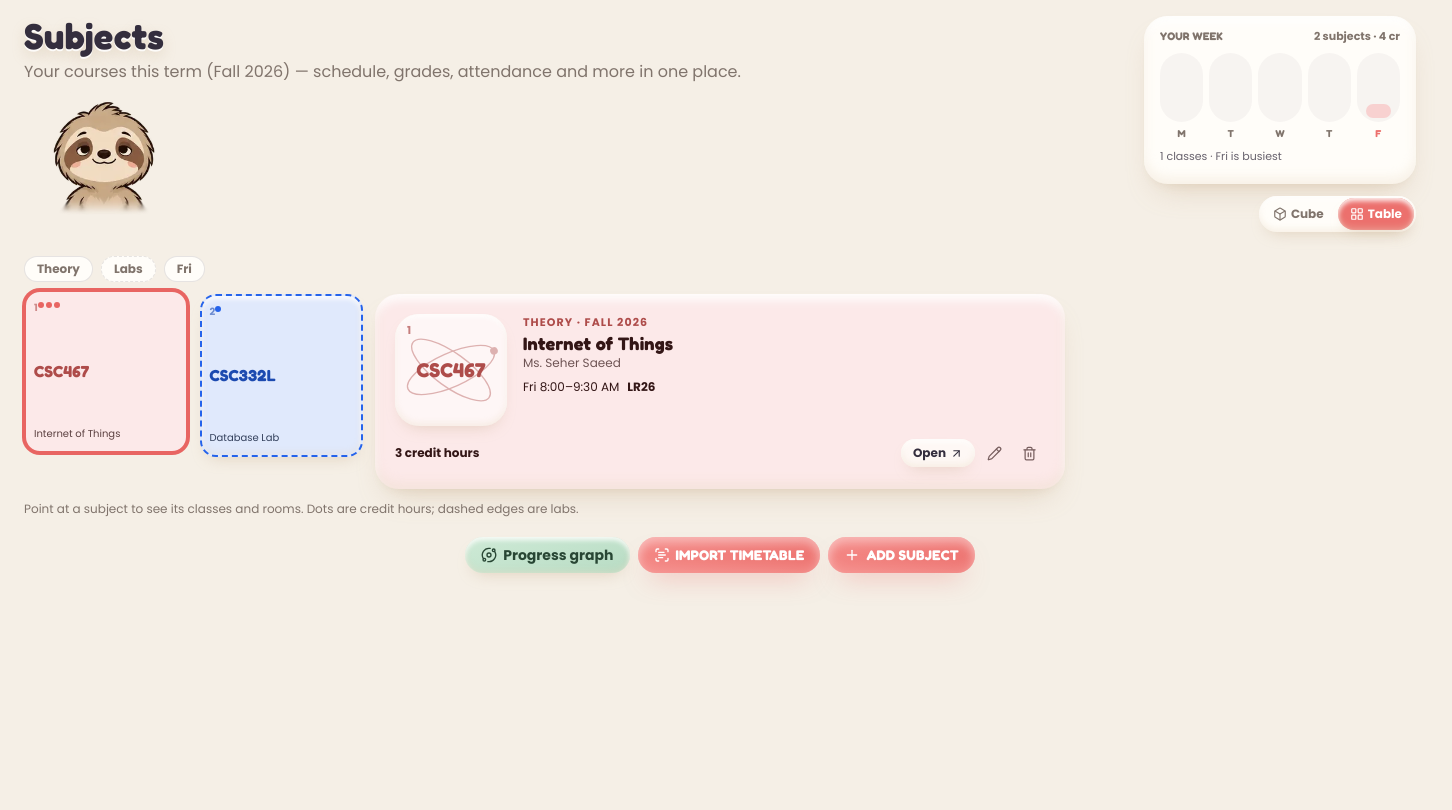
choosing Cube again brings the cube back and hides the table
Click the radio button labelled "Cube".
click(1298, 214)  # box x1=1261 y1=198 x2=1336 y2=230
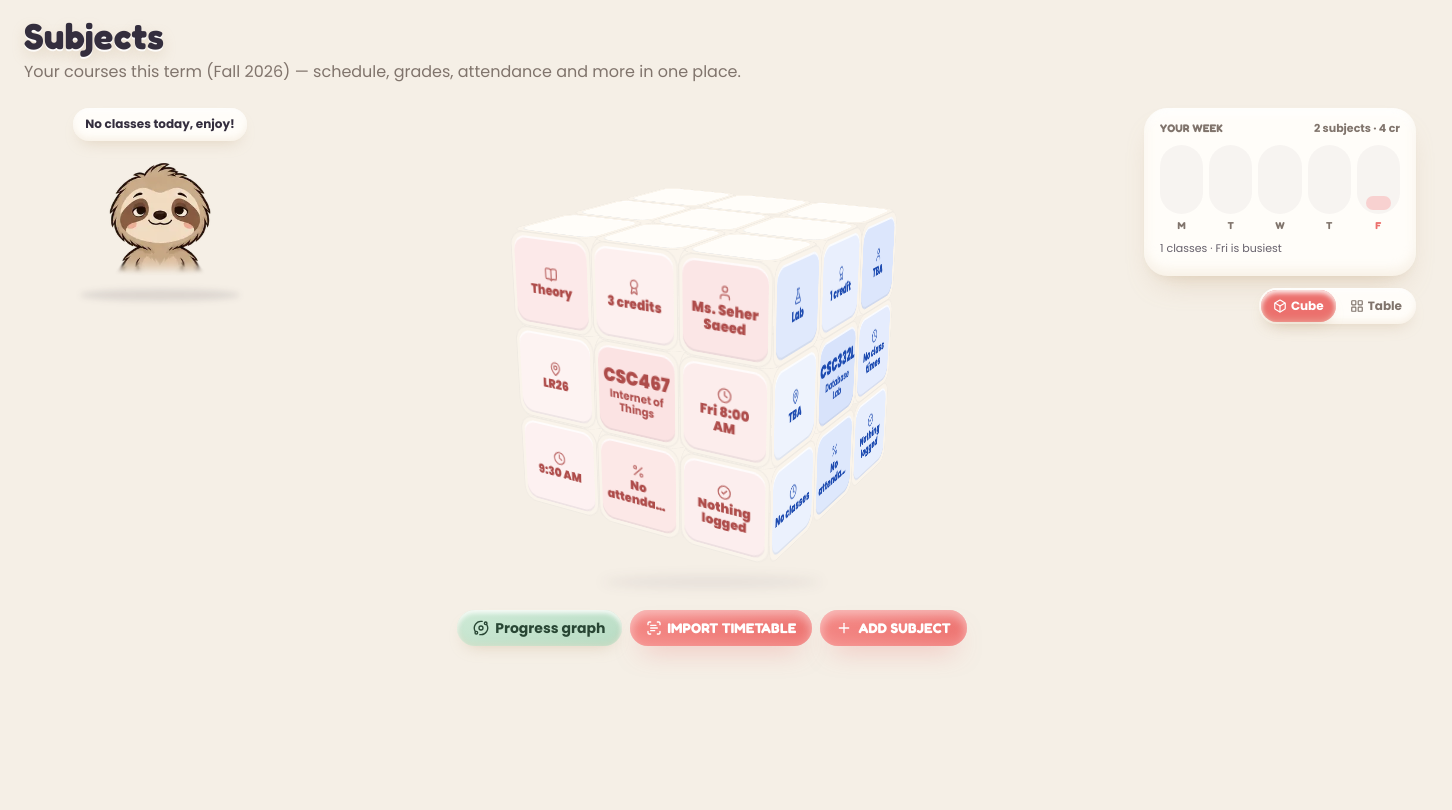
Result: the element with test id "rubik" is shown at x1=320 y1=108 x2=1104 y2=646
